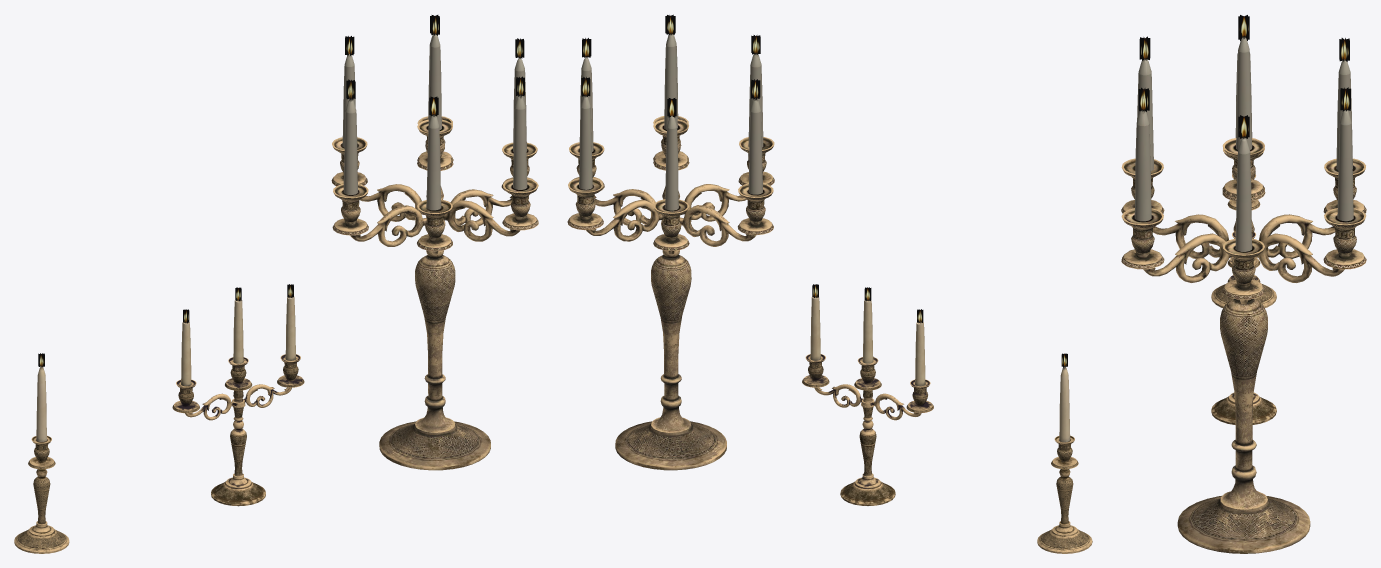
File: brass_candleholders.glb
3 views of the same model, side by side, from view 1: azimuth 30°, elevation 25°; view 2: azimuth 150°, elevation 25°; view 3: azimuth 270°, elevation 25° (orthographic). The views are drawn at different scales.
Visible parts, largest first — view 1: brass_candleholder_03, brass_candleholder_02, brass_candleholder_01; view 2: brass_candleholder_03, brass_candleholder_02, brass_candleholder_01; view 3: brass_candleholder_03, brass_candleholder_02, brass_candleholder_01.
Part boxes in pixels (x1,y1,x2,y2): brass_candleholder_03: (38, 15, 538, 470); brass_candleholder_02: (172, 296, 304, 506); brass_candleholder_01: (14, 366, 69, 553); brass_candleholder_03: (567, 14, 1067, 470); brass_candleholder_02: (802, 296, 933, 505); brass_candleholder_01: (1037, 366, 1092, 553); brass_candleholder_03: (1121, 15, 1366, 553); brass_candleholder_02: (1211, 232, 1276, 424); brass_candleholder_01: (1211, 174, 1276, 307).
Size of the model in its own units: 1.05 by 0.8353 by 0.3646.
5 materials, 5 textured.
